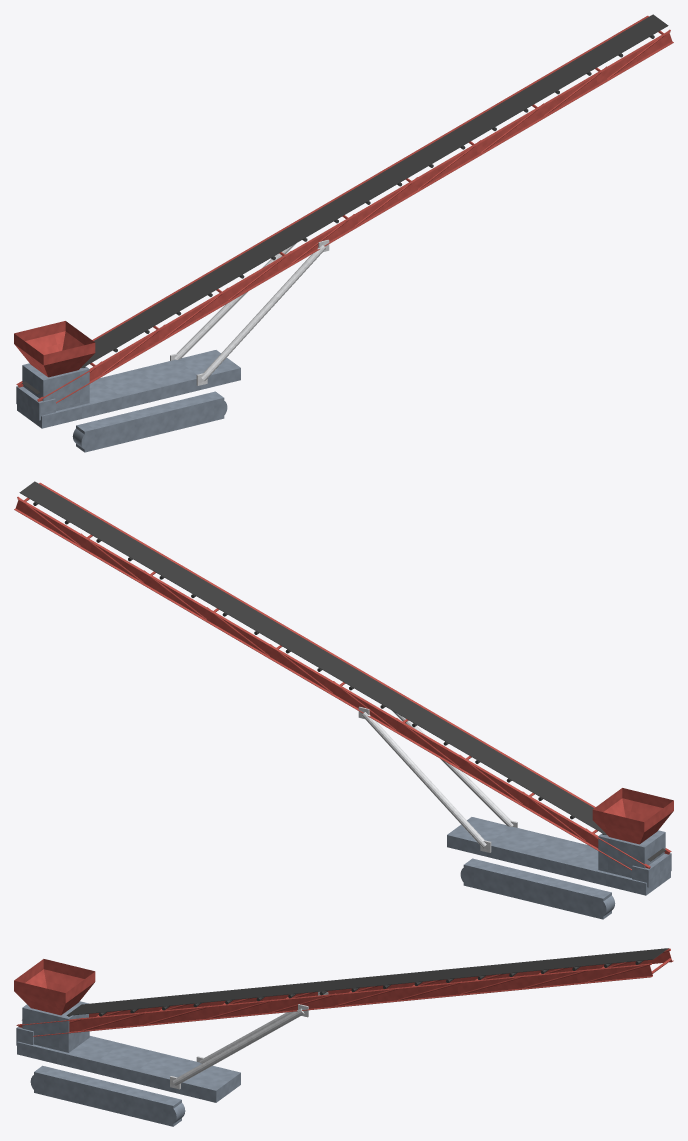
The model's file is mobile-stacking-conveyors.glb.
3 renders of one model, top to bottom at view 1: azimuth 30°, elevation 25°; view 2: azimuth 150°, elevation 25°; view 3: azimuth 330°, elevation 25°, orthographic.
Parts seen in each view (by area): view 1: Undercarriage(context), Belt&Idlers(context), Boom, TailHopper, Rams&Lugs; view 2: Undercarriage(context), Belt&Idlers(context), Boom, TailHopper, Rams&Lugs; view 3: Undercarriage(context), Boom, Belt&Idlers(context), TailHopper, Rams&Lugs.
Boxes of the visible parts, x1=… form: Undercarriage(context): x1=16, y1=350, x2=240, y2=452; Belt&Idlers(context): x1=22, y1=14, x2=668, y2=394; Boom: x1=16, y1=15, x2=673, y2=403; TailHopper: x1=14, y1=321, x2=95, y2=377; Rams&Lugs: x1=170, y1=239, x2=329, y2=385; Undercarriage(context): x1=447, y1=817, x2=671, y2=919; Belt&Idlers(context): x1=19, y1=481, x2=665, y2=861; Boom: x1=14, y1=482, x2=671, y2=870; TailHopper: x1=592, y1=788, x2=673, y2=844; Rams&Lugs: x1=358, y1=706, x2=517, y2=852; Undercarriage(context): x1=16, y1=1001, x2=240, y2=1126; Boom: x1=16, y1=948, x2=673, y2=1036; Belt&Idlers(context): x1=66, y1=948, x2=668, y2=1016; TailHopper: x1=14, y1=959, x2=95, y2=1015; Rams&Lugs: x1=170, y1=991, x2=328, y2=1089.
Bounding box in the file's own units: 19.13 × 7.69 × 2.65.
4 materials, 3 textured.
